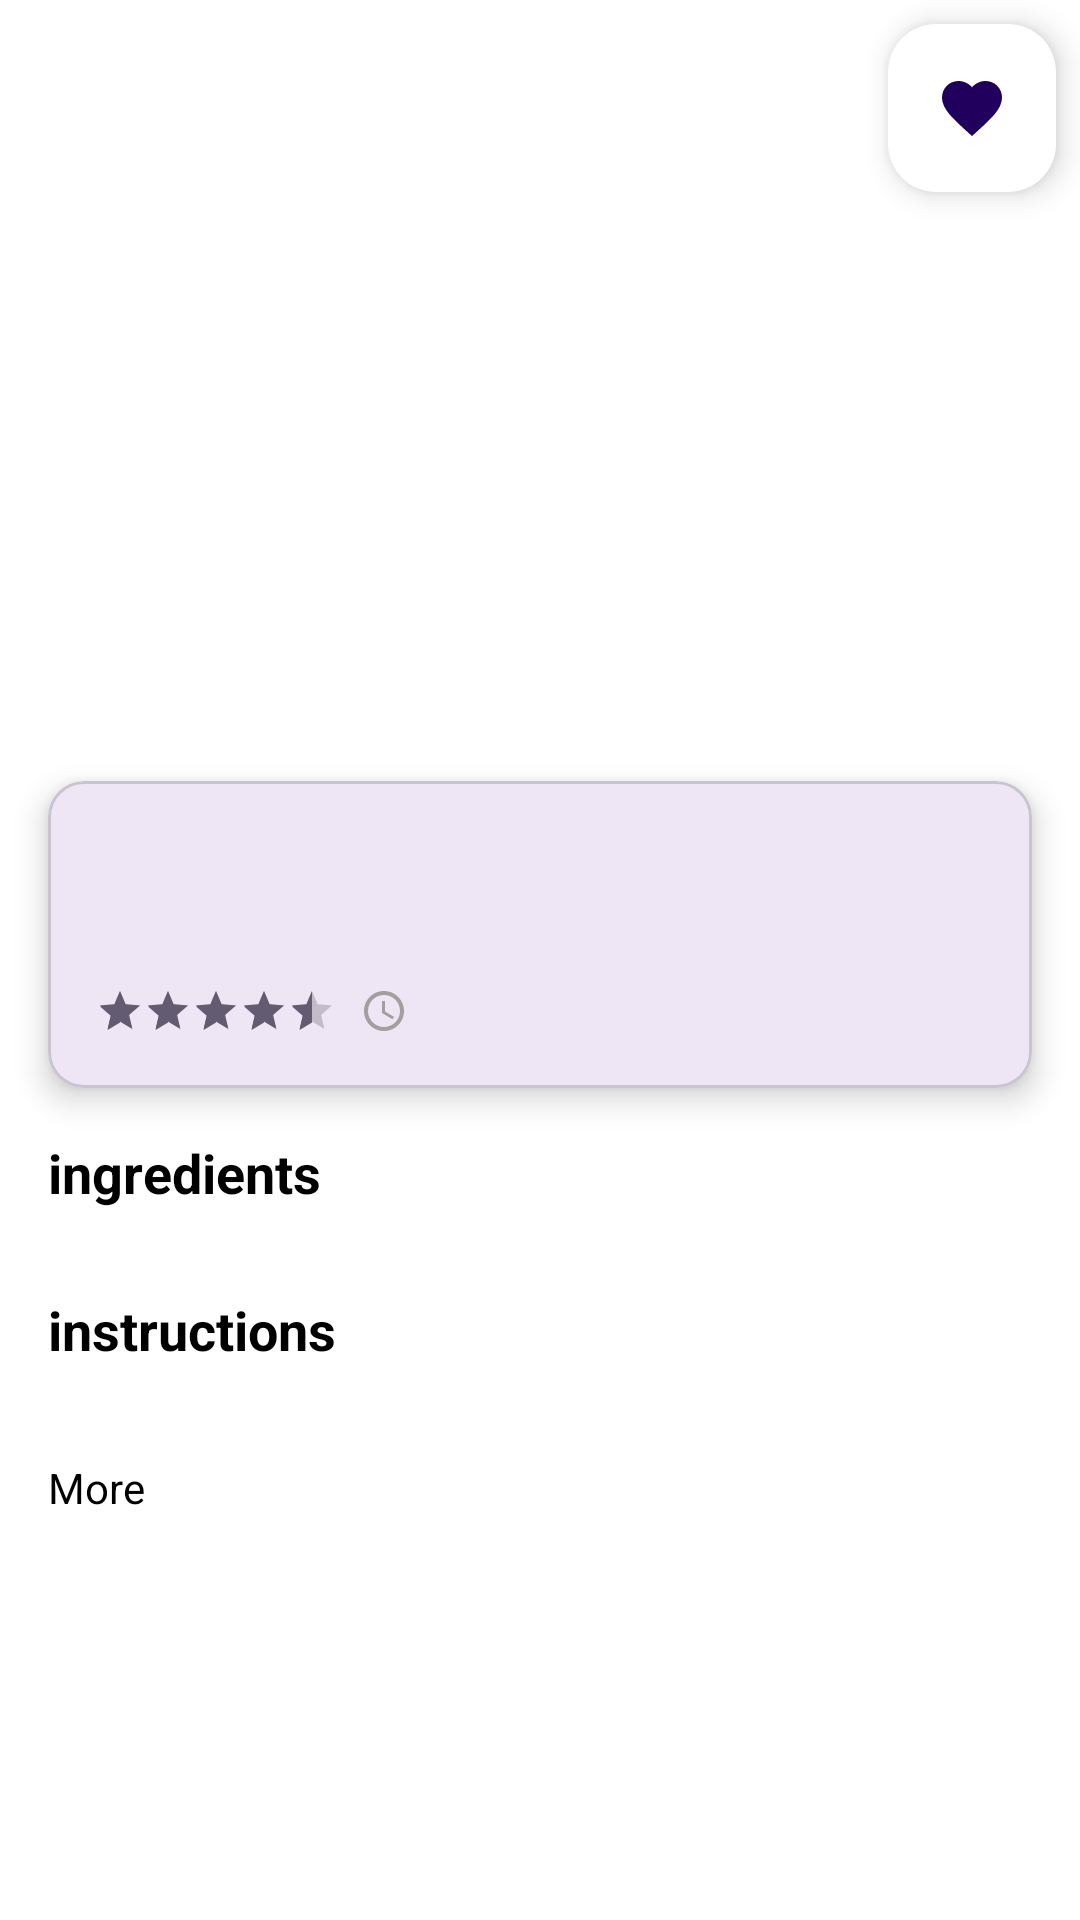

Icons on this 1080*1920 Android screen, each with the point to tap as (x=x, y=y):
favorite: (x=991, y=108)
time: (x=384, y=1011)
